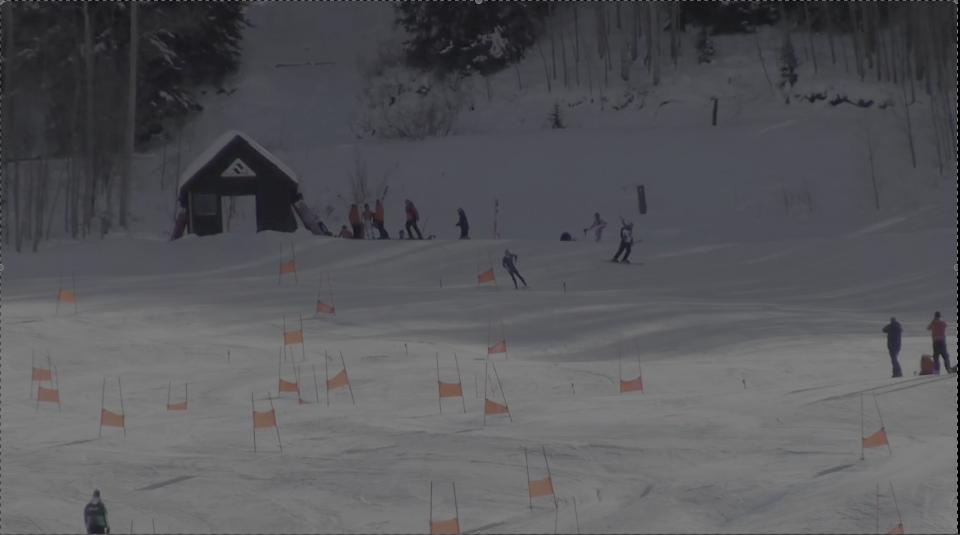gate: (536, 442, 561, 507), (238, 388, 263, 453), (519, 438, 536, 516), (89, 377, 109, 443), (267, 391, 286, 457), (113, 377, 132, 441)
